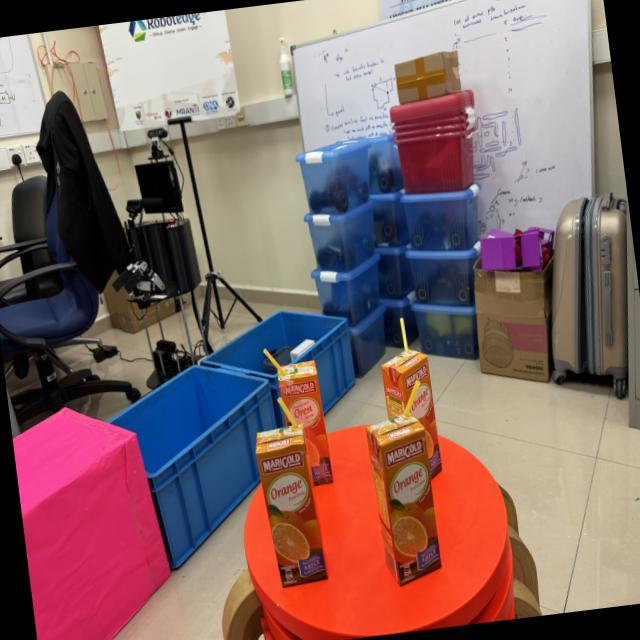drink_carton: (363, 305, 462, 494), (361, 400, 452, 594), (258, 324, 352, 507), (248, 414, 336, 605)
